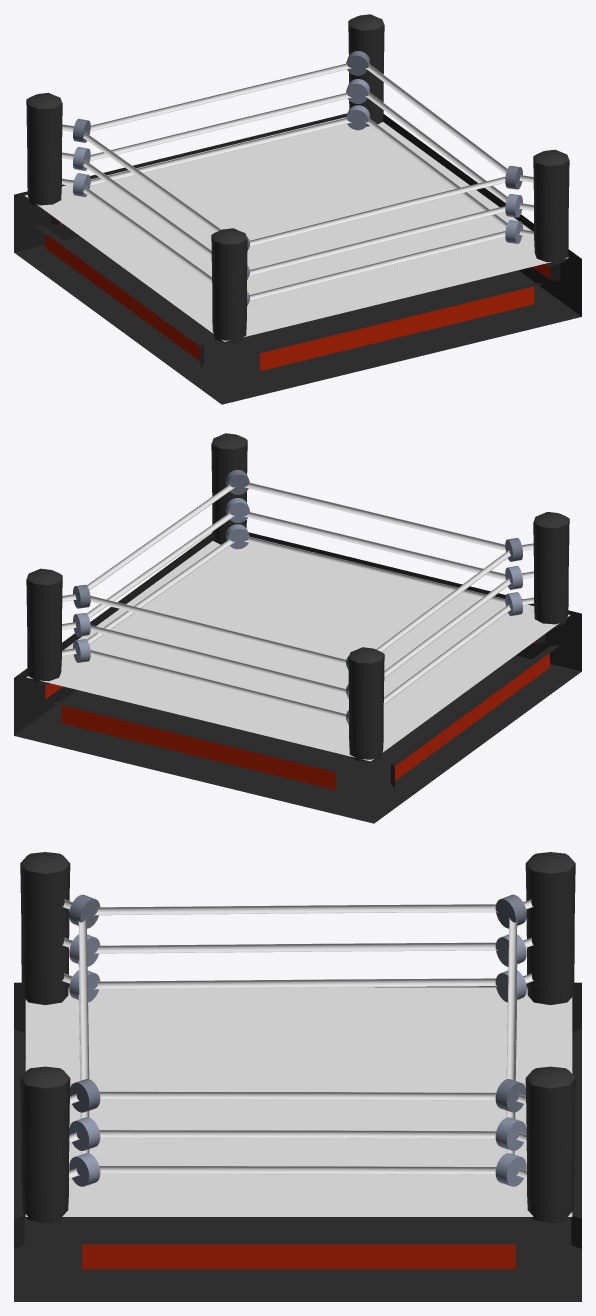
Rendered from Wresting_Ring.glb.
3 renders of one model, top to bottom at view 1: azimuth 30°, elevation 25°; view 2: azimuth 150°, elevation 25°; view 3: azimuth 270°, elevation 25°, orthographic. The views are drawn at different scales.
Visible parts, largest first — view 1: Ring_Base, Ring_Poles, Ring_Rope.001, Ring_Rope.003, Ring_Rope.005, Ring_Rope, Ring_Rope.002, Ring_Rope.004, Inner_Sphere.002, Inner_Sphere, Inner_Sphere.001; view 2: Ring_Base, Ring_Poles, Ring_Rope.001, Ring_Rope.003, Ring_Rope.005, Ring_Rope, Ring_Rope.002, Ring_Rope.004, Inner_Sphere.002, Inner_Sphere, Inner_Sphere.001; view 3: Ring_Base, Ring_Poles, Ring_Rope.002, Ring_Rope, Ring_Rope.004, Inner_Sphere, Ring_Rope.001, Inner_Sphere.001, Inner_Sphere.002.
Boxes of the visible parts, x1=… form: Ring_Base: x1=14, y1=113, x2=581, y2=404; Ring_Poles: x1=26, y1=14, x2=569, y2=344; Ring_Rope.001: x1=89, y1=63, x2=505, y2=246; Ring_Rope.003: x1=89, y1=92, x2=505, y2=275; Ring_Rope.005: x1=89, y1=117, x2=505, y2=300; Ring_Rope: x1=83, y1=63, x2=507, y2=232; Ring_Rope.002: x1=83, y1=91, x2=507, y2=257; Ring_Rope.004: x1=83, y1=117, x2=507, y2=283; Inner_Sphere.002: x1=73, y1=105, x2=522, y2=306; Inner_Sphere: x1=73, y1=51, x2=522, y2=251; Inner_Sphere.001: x1=73, y1=79, x2=522, y2=279; Ring_Base: x1=14, y1=532, x2=581, y2=823; Ring_Poles: x1=26, y1=433, x2=569, y2=763; Ring_Rope.001: x1=90, y1=482, x2=506, y2=665; Ring_Rope.003: x1=90, y1=511, x2=505, y2=694; Ring_Rope.005: x1=90, y1=536, x2=506, y2=719; Ring_Rope: x1=87, y1=484, x2=510, y2=651; Ring_Rope.002: x1=87, y1=512, x2=511, y2=678; Ring_Rope.004: x1=87, y1=538, x2=510, y2=704; Inner_Sphere.002: x1=73, y1=524, x2=522, y2=725; Inner_Sphere: x1=73, y1=470, x2=522, y2=670; Inner_Sphere.001: x1=73, y1=498, x2=522, y2=698; Ring_Base: x1=14, y1=982, x2=581, y2=1301; Ring_Poles: x1=20, y1=852, x2=575, y2=1223; Ring_Rope.002: x1=94, y1=942, x2=497, y2=1139; Ring_Rope: x1=94, y1=904, x2=497, y2=1100; Ring_Rope.004: x1=93, y1=978, x2=497, y2=1174; Inner_Sphere: x1=69, y1=894, x2=526, y2=1112; Ring_Rope.001: x1=78, y1=918, x2=517, y2=1080; Inner_Sphere.001: x1=69, y1=934, x2=526, y2=1150; Inner_Sphere.002: x1=69, y1=970, x2=526, y2=1186.
Bounding box in the file's own units: 12.14 × 5.08 × 12.14.
